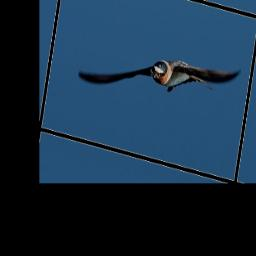Swallow: (77, 23, 241, 121)
